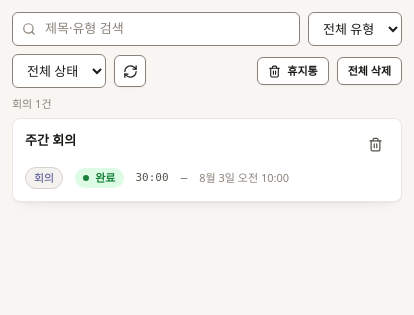
Test: 휴지통 화면 › 완전 삭제는 **서버 메시지를 그대로** 보여준다
Expected: the text "주간 회의" is shown, [25,131,76,150]
What coordinates should you click on to do the following:
click the button "휴지통"
I would click on:
 (293, 71)
Its box is [257,57,329,85].
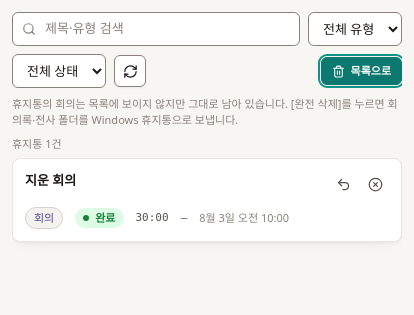
What coordinates should you click on to do the following:
click the button named "지운 회의 완전 삭제"
I would click on:
 (375, 185)
Its box is [361,171,389,199].
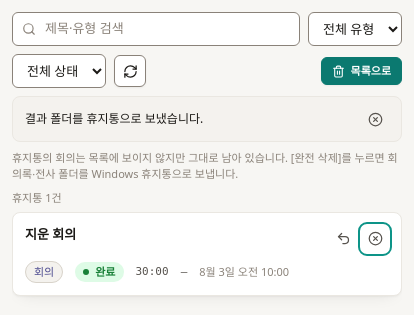
Expected: the text "결과 폴더를 휴지통으로 보냈습니다." is shown, [25,110,203,128]
